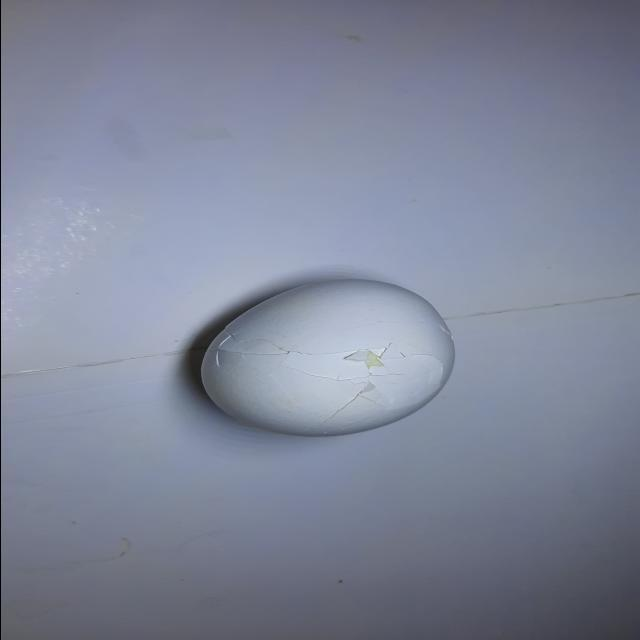egg shell: (194, 276, 462, 439)
